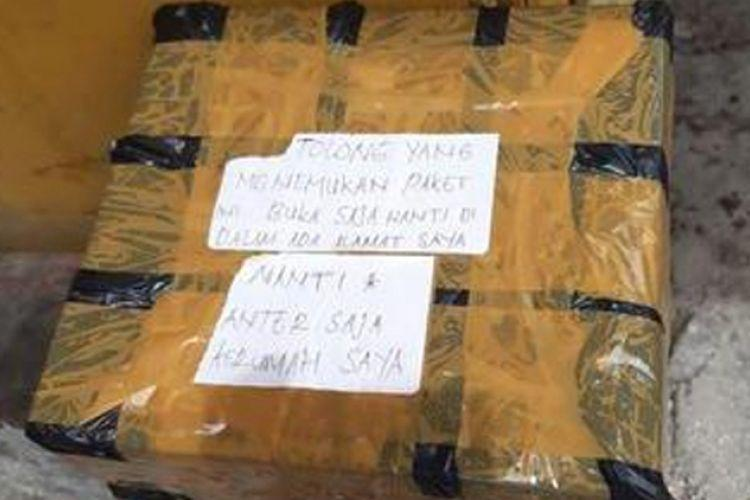undamaged: (12, 0, 684, 498)
